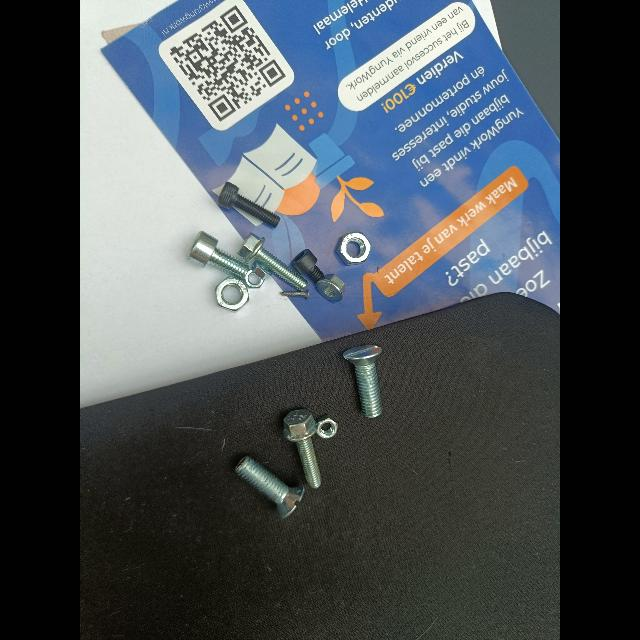bolt: (235, 456, 305, 519), (283, 409, 338, 489), (238, 233, 308, 291), (188, 231, 259, 287), (217, 182, 280, 228), (343, 345, 382, 418), (290, 249, 324, 285), (279, 285, 309, 300)
nuts: (215, 271, 252, 311), (335, 232, 370, 264), (315, 268, 345, 302), (240, 261, 267, 290), (249, 255, 272, 282), (315, 415, 338, 439)
